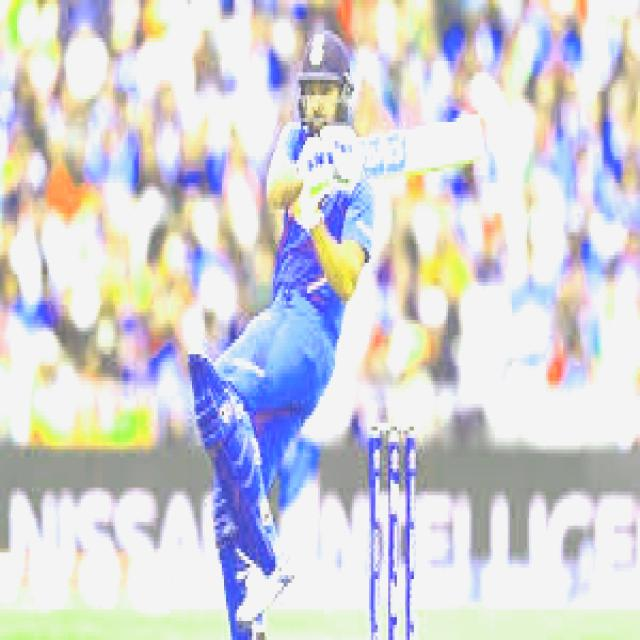toe: (444, 112, 483, 174)
